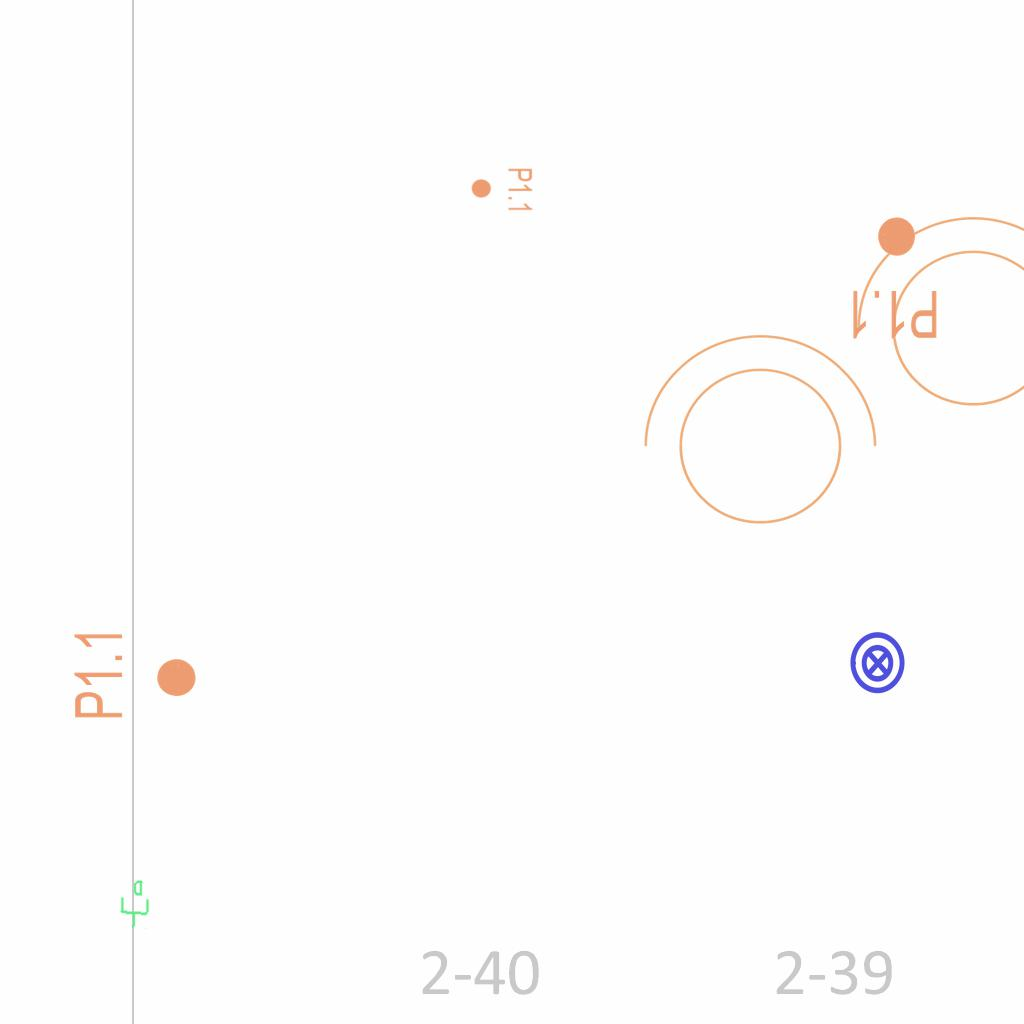Datenanschluss_einfach: (115, 877, 153, 931)
Downlight_LED_Einbauleuchten_Flur: (71, 628, 199, 721), (847, 214, 940, 342), (470, 167, 534, 213)
Scheinwerfer_fuer_Alarmbeleuchtung: (622, 324, 886, 549), (835, 206, 1024, 431)
Taster_beleuchtet: (845, 630, 911, 696)
